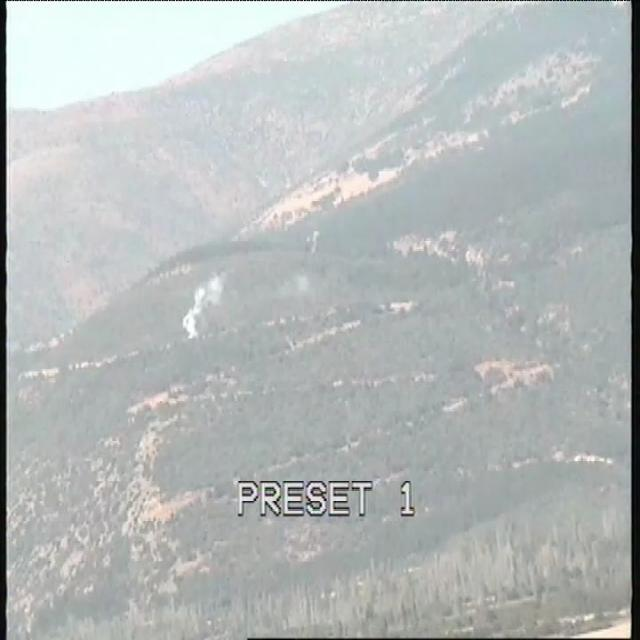smoke: (182, 274, 222, 345)
